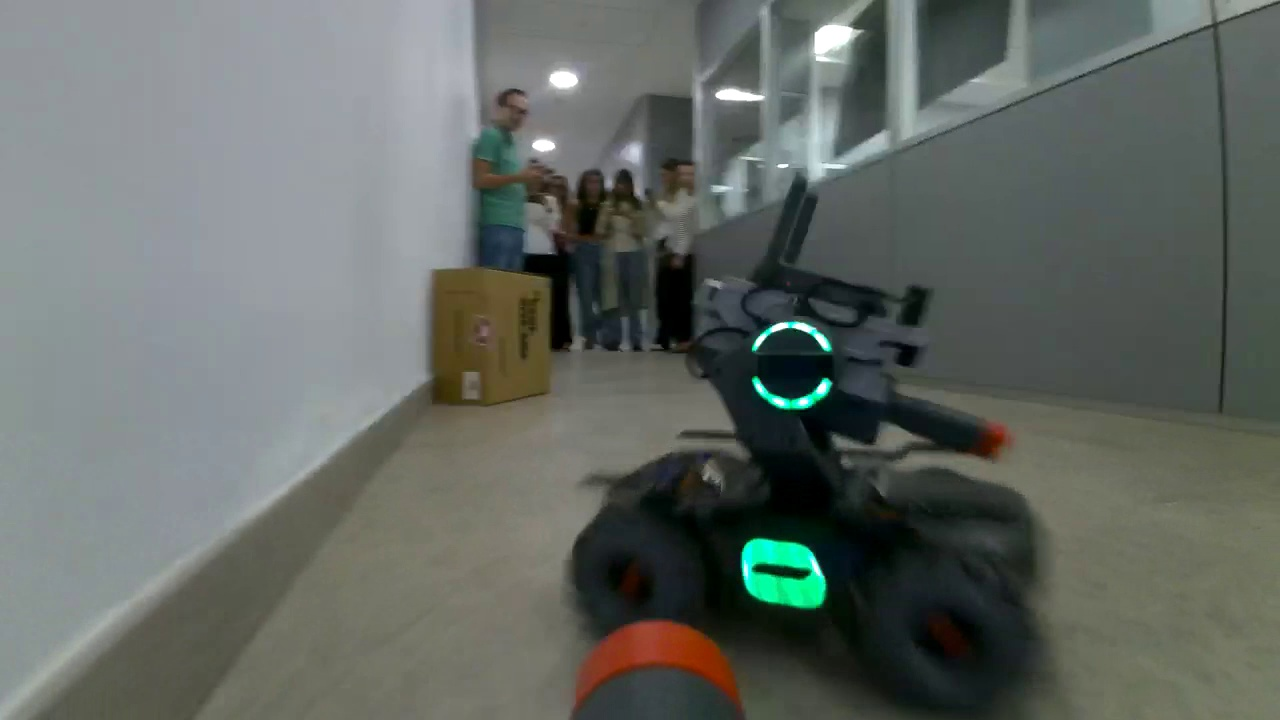robot: (576, 271, 1037, 706)
